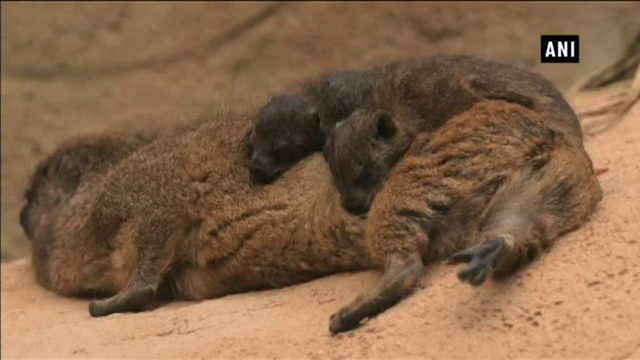Rock Hyrex: (14, 112, 438, 301), (249, 56, 583, 186), (324, 110, 466, 213)
